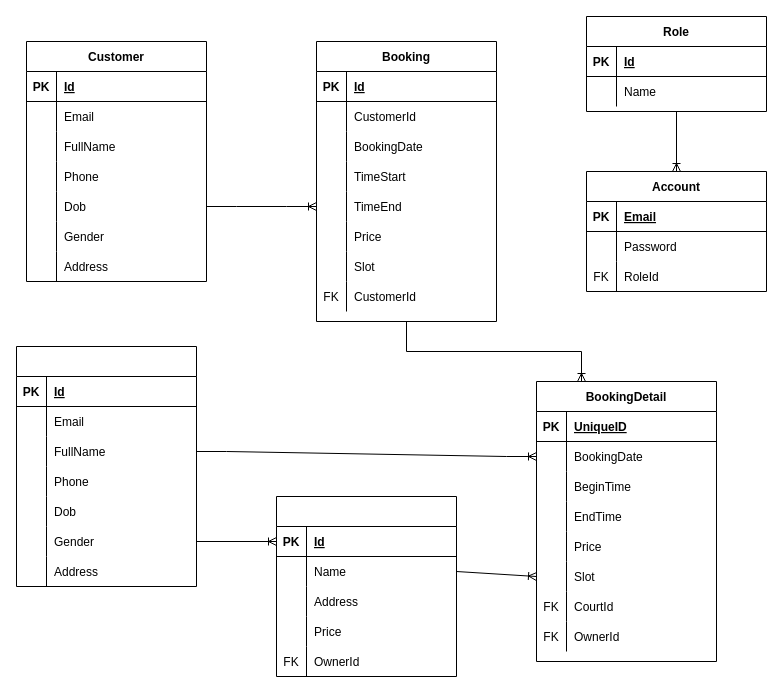
The diagram is 783 pixels wide and 693 high, and some of its shapes have lost their labels. The shapes that lost their labels are listed below. From the top down, each one's box as (x1, y1, x2, y2) in pixels, then its label:
(16, 346, 196, 586): CourtOwner
(276, 496, 456, 676): TennisCourt
